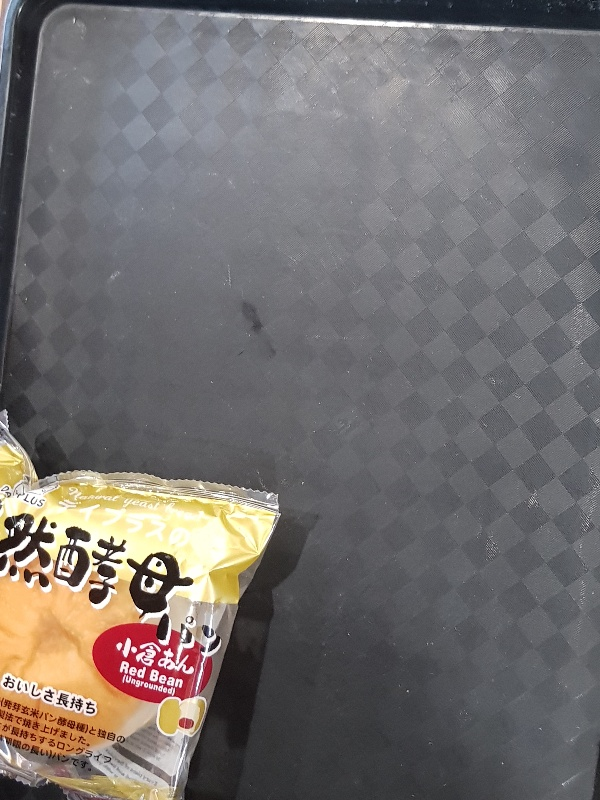Dayplus Red Bean: (1, 405, 282, 800)
